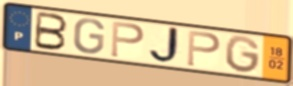B: (33, 10, 70, 52)
G: (224, 34, 262, 76), (71, 17, 107, 56)
J: (148, 26, 185, 65)
P: (185, 28, 223, 68), (109, 19, 146, 59)
